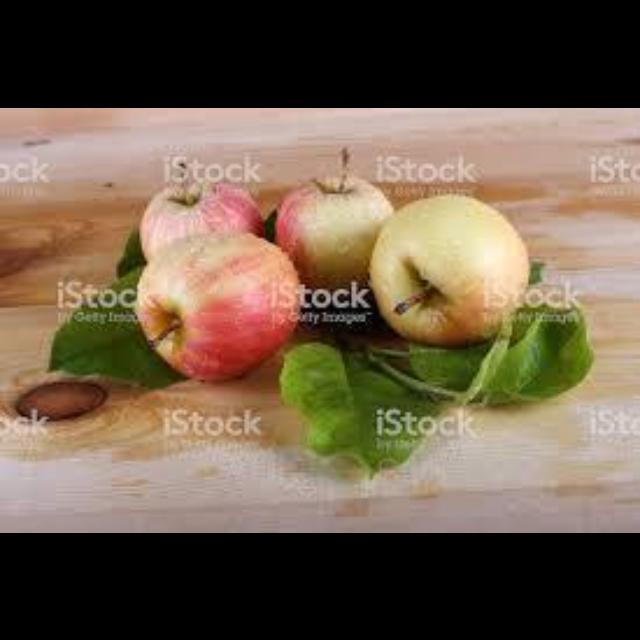apple: (368, 193, 528, 344), (133, 233, 296, 379), (275, 147, 393, 289), (140, 163, 263, 258)
